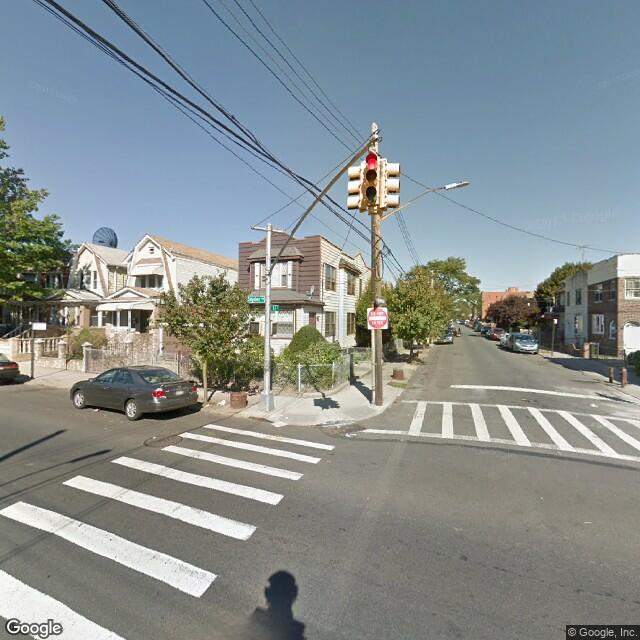litter: (215, 395, 230, 408), (86, 406, 106, 415)
